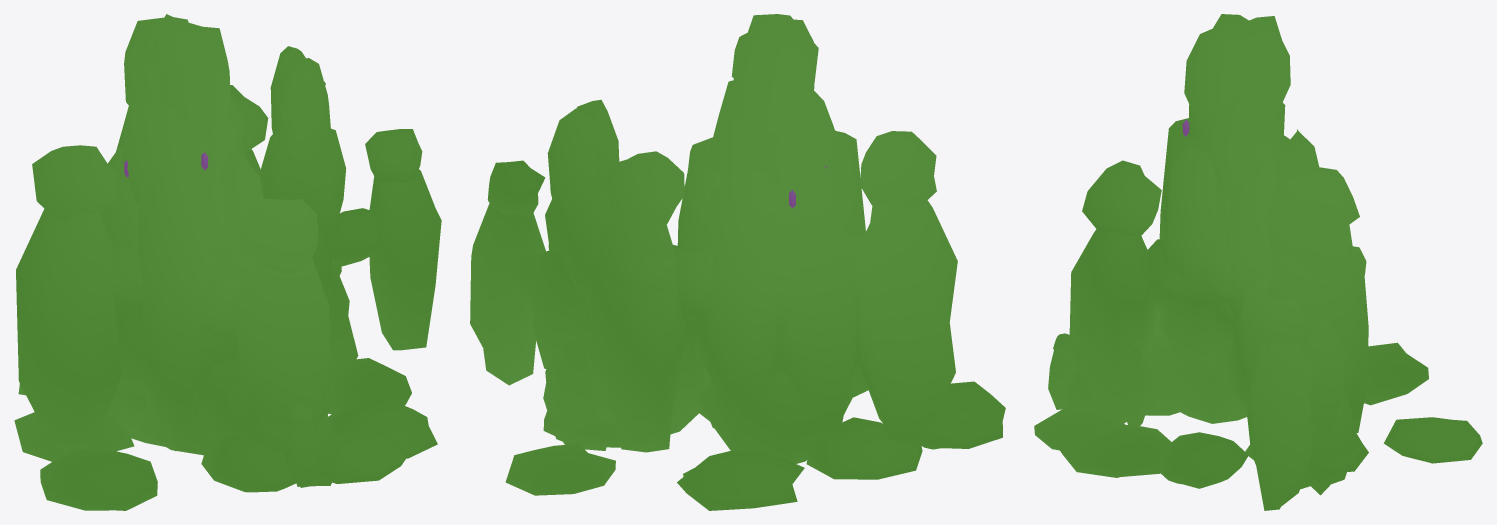
The model's file is Blender_Kudzu_1.glb.
The picture shows the model from 3 angles, left to right: view 1: azimuth 30°, elevation 25°; view 2: azimuth 150°, elevation 25°; view 3: azimuth 270°, elevation 25°; orthographic projection. The views are drawn at different scales.
Visible parts, largest first — view 1: Blender_Kudzu_1; view 2: Blender_Kudzu_1; view 3: Blender_Kudzu_1.
Part boxes in pixels (left/top/right/bottom): Blender_Kudzu_1: left=14, top=14, right=441, bottom=510; Blender_Kudzu_1: left=470, top=14, right=1005, bottom=510; Blender_Kudzu_1: left=1034, top=14, right=1482, bottom=510.
Bounding box in the file's own units: 15.32 × 13.74 × 13.93.
